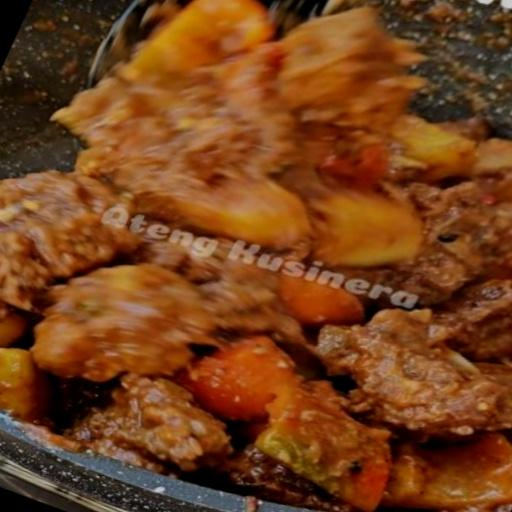pork caldereta: (0, 103, 511, 511)
